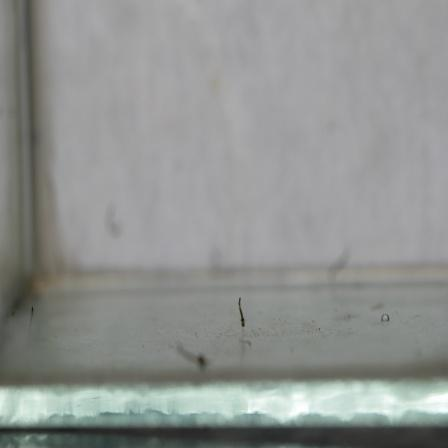Jentik-Nyamuk: (235, 293, 248, 333)
